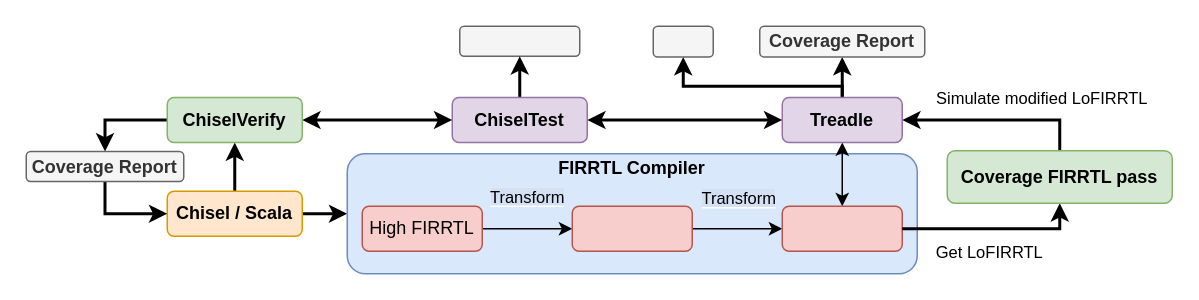
Image size: 1199x300. Some labels were removed from this diagram. The shapes that lost their labels are listed below. From the top down, each one's box as (x1, y1, x2, y2) in pixels, then its label:
(458, 25, 580, 56): Test Results
(652, 25, 713, 57): VCD
(571, 205, 692, 251): Mid FIRRTL
(781, 205, 902, 251): Low FIRRTL
